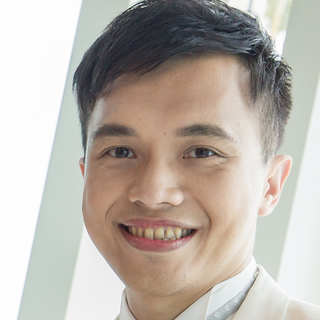eye: (179, 140, 229, 165), (97, 140, 144, 165)
